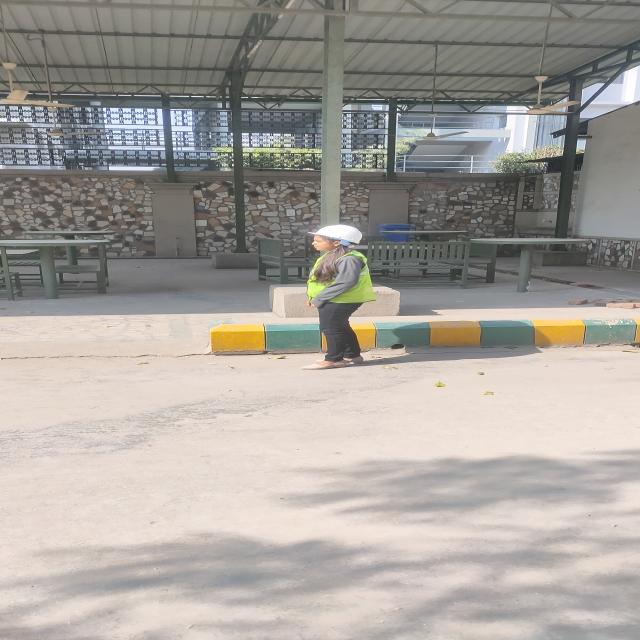safe: (307, 224, 373, 370)
